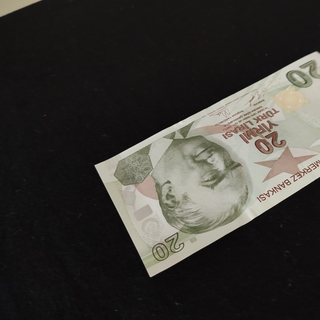20TLFront: (93, 51, 320, 278)
